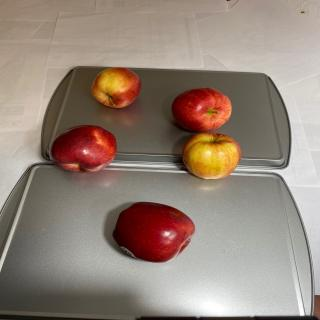Apple: (112, 201, 195, 263), (49, 125, 117, 173), (182, 132, 242, 180), (171, 87, 232, 132), (90, 67, 142, 108)
